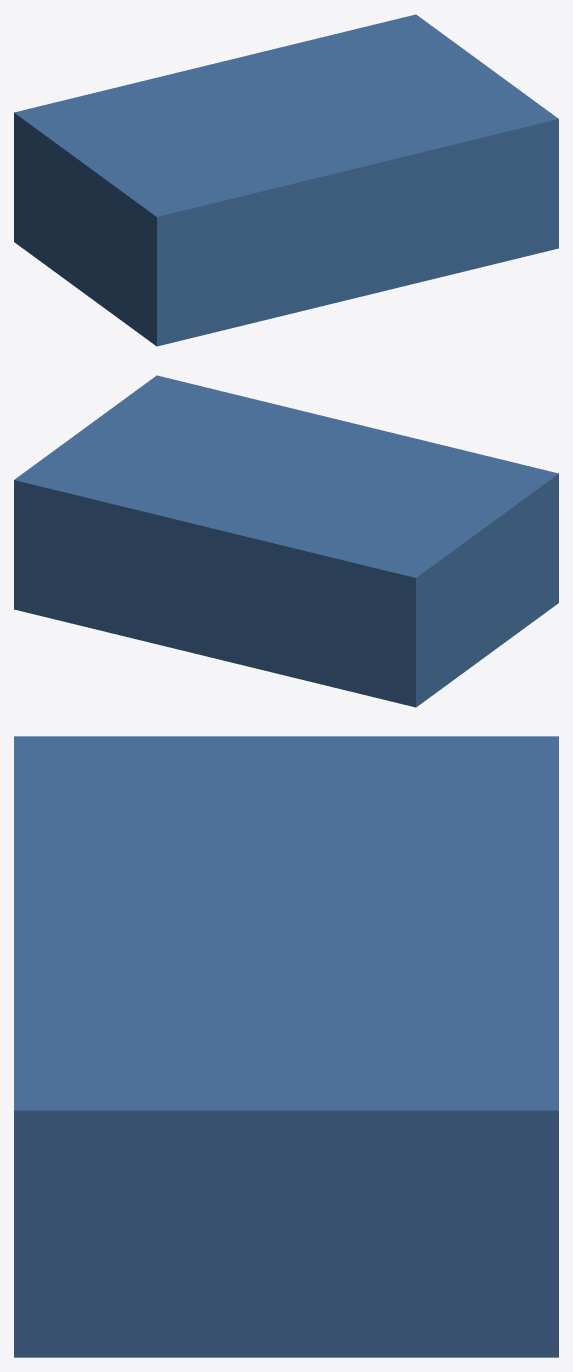
3 renders of one model, top to bottom at view 1: azimuth 30°, elevation 25°; view 2: azimuth 150°, elevation 25°; view 3: azimuth 270°, elevation 25°, orthographic. The views are drawn at different scales.
Visible parts, largest first — view 1: enclosure; view 2: enclosure; view 3: enclosure.
Boxes of the visible parts, x1=… form: enclosure: x1=14, y1=14, x2=558, y2=346; enclosure: x1=14, y1=375, x2=558, y2=707; enclosure: x1=14, y1=736, x2=558, y2=1357.
Size of the model in its own units: 130 by 40 by 80.
